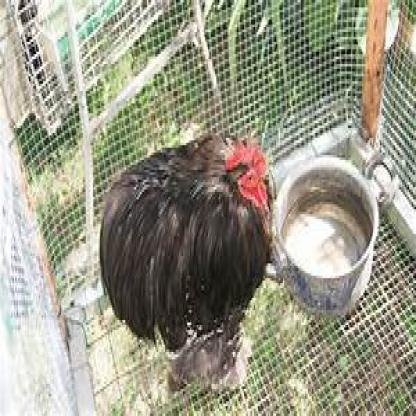chicken: (98, 130, 276, 354)
